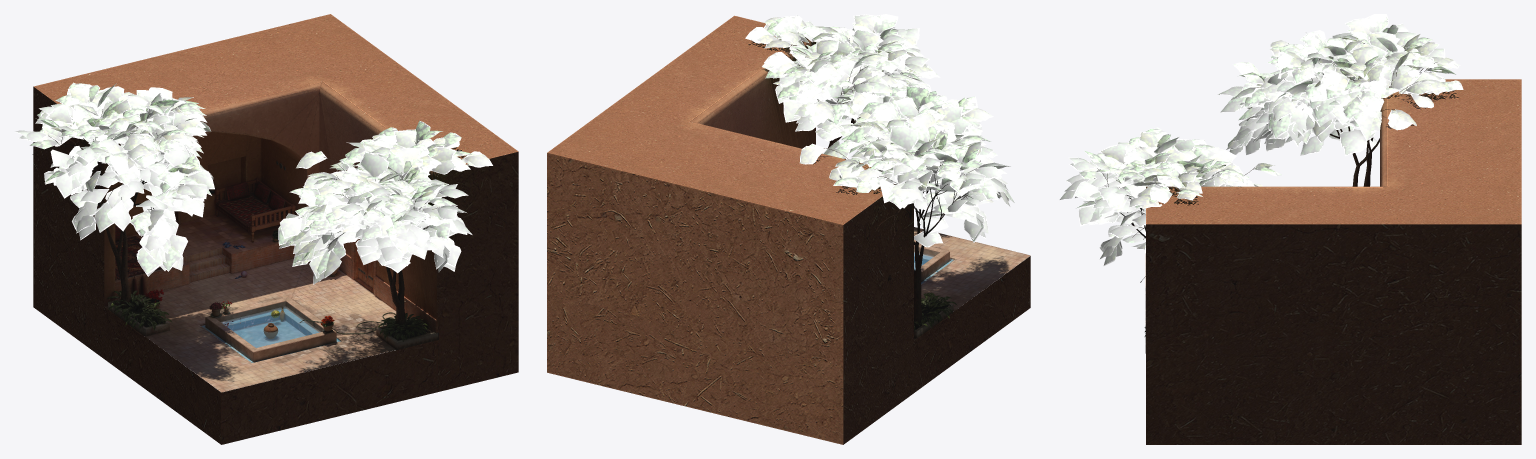
The picture shows the model from 3 angles, left to right: view 1: azimuth 30°, elevation 25°; view 2: azimuth 150°, elevation 25°; view 3: azimuth 270°, elevation 25°; orthographic projection.
Visible parts, largest first — view 1: Walls.001, polySurface1.003, object0.002_material0.002_0, object0.001_material0.001_0 (×2), Plane.003; view 2: Walls.001, polySurface1.003, object0.001_material0.001_0 (×2), object0.002_material0.002_0; view 3: Walls.001, polySurface1.003, object0.002_material0.002_0, object0.001_material0.001_0.
Boxes of the visible parts, left/top/right/bottom form: Walls.001: left=33, top=14, right=518, bottom=444; polySurface1.003: left=15, top=82, right=492, bottom=284; object0.002_material0.002_0: left=104, top=81, right=438, bottom=332; object0.001_material0.001_0 (×2): left=32, top=107, right=506, bottom=392; Plane.003: left=221, top=306, right=319, bottom=347; Walls.001: left=547, top=15, right=1030, bottom=444; polySurface1.003: left=745, top=14, right=1014, bottom=247; object0.001_material0.001_0 (×2): left=795, top=31, right=1030, bottom=340; object0.002_material0.002_0: left=690, top=37, right=867, bottom=165; Walls.001: left=1146, top=79, right=1521, bottom=444; polySurface1.003: left=1059, top=14, right=1463, bottom=266; object0.002_material0.002_0: left=1146, top=98, right=1387, bottom=187; object0.001_material0.001_0: left=1094, top=48, right=1436, bottom=336.
Bounding box in the file's own units: 1801 × 1269 × 1919.
5 materials, 4 textured.
